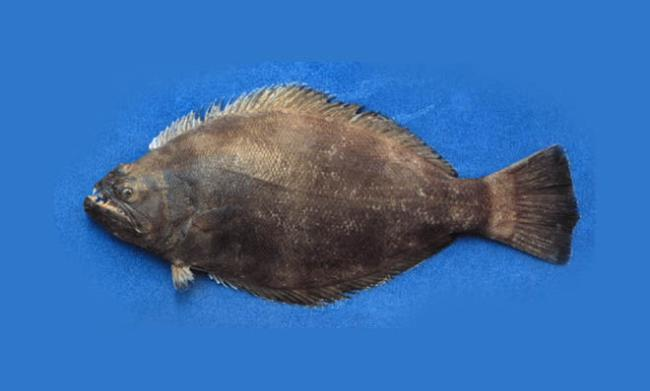fish: (83, 80, 581, 308)
